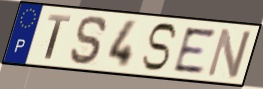4: (105, 18, 140, 70)
E: (172, 26, 218, 75)
N: (204, 26, 254, 80)
S: (68, 14, 110, 67), (140, 21, 179, 73)
T: (43, 12, 72, 61)
